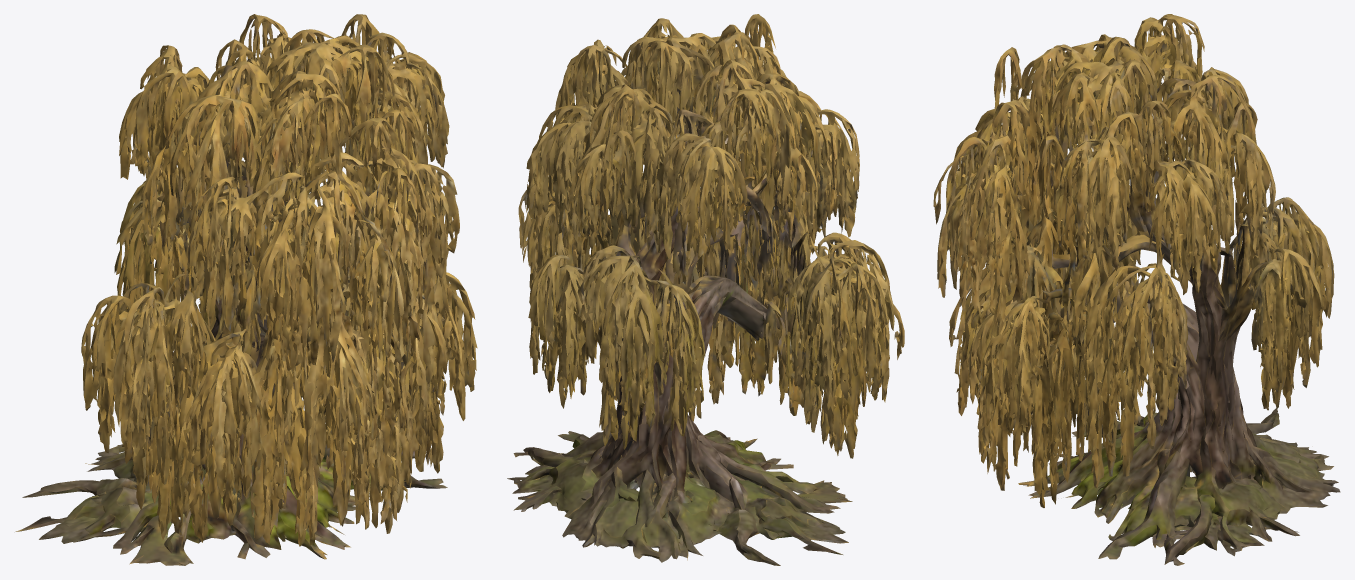
The model's file is Willow_Gold.fbx.
3 renders of one model, left to right at view 1: azimuth 30°, elevation 25°; view 2: azimuth 150°, elevation 25°; view 3: azimuth 270°, elevation 25°, orthographic. The views are drawn at different scales.
Parts seen in each view (by area): view 1: geometry_0; view 2: geometry_0; view 3: geometry_0.
Boxes of the visible parts, left/top/right/bottom form: geometry_0: left=15, top=14, right=477, bottom=565; geometry_0: left=507, top=14, right=904, bottom=565; geometry_0: left=933, top=14, right=1340, bottom=565.
Size of the model in its own units: 1028 by 1200 by 996.
